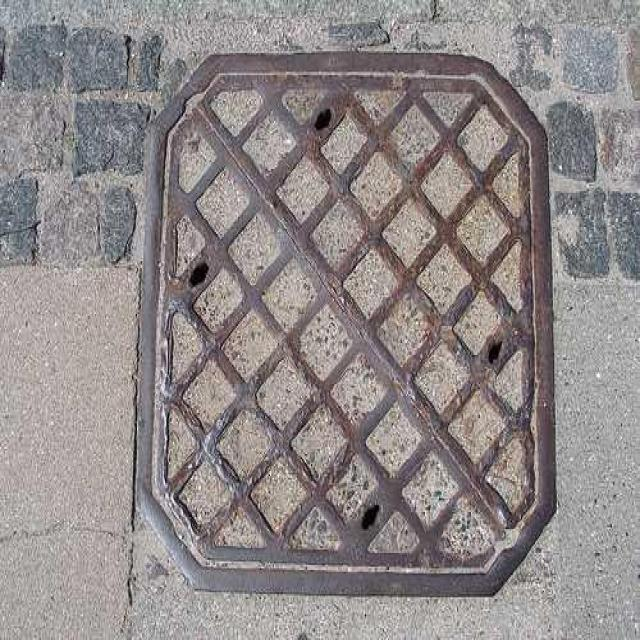manhole: (142, 57, 551, 593)
